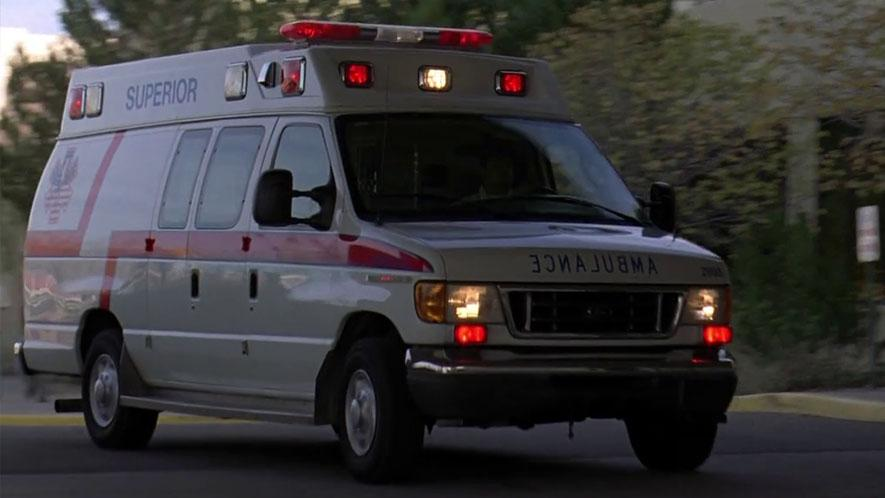ambulance_on: (14, 17, 740, 475)
